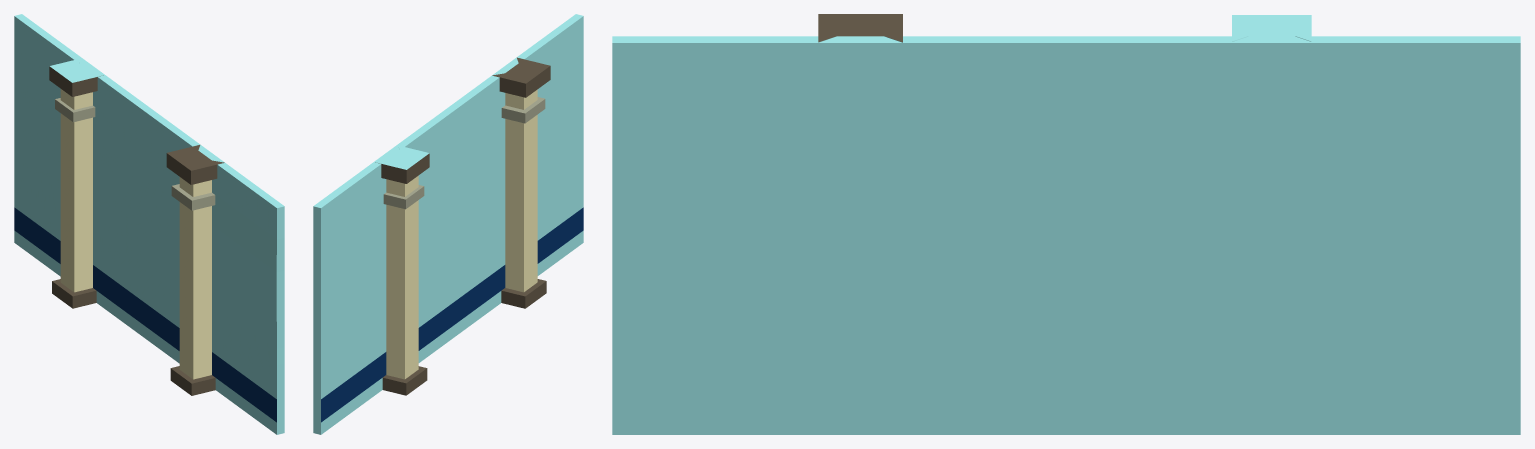
File: wall_without_window.fbx
3 renders of one model, left to right at view 1: azimuth 30°, elevation 25°; view 2: azimuth 150°, elevation 25°; view 3: azimuth 270°, elevation 25°, orthographic. The views are drawn at different scales.
Parts seen in each view (by area): view 1: Cube.002; view 2: Cube.002; view 3: Cube.002.
Boxes of the visible parts, <box> form: Cube.002: <box>14,14,284,434</box>; Cube.002: <box>313,14,583,434</box>; Cube.002: <box>612,14,1520,434</box>.
Bounding box in the file's own units: 1050 × 78.78 × 500.
